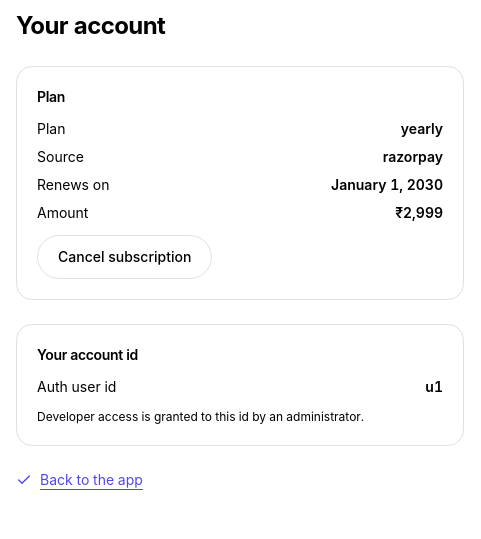
it: Account › does not claim a payment failed when the cancel call fails
Click the button "Cancel subscription".
click(125, 257)  # box [37,235,212,279]
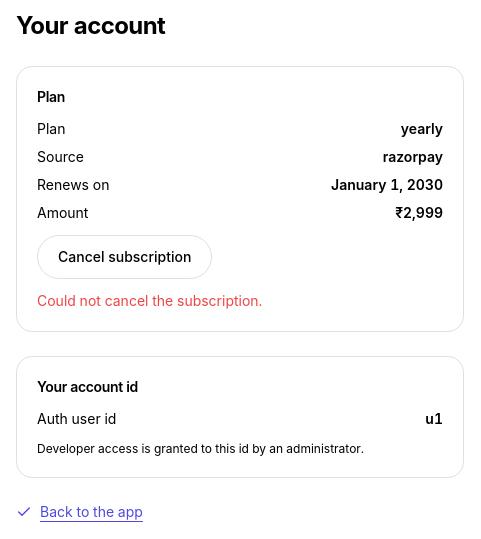
Now the message shows "Could not cancel", box [37,292,262,309]
